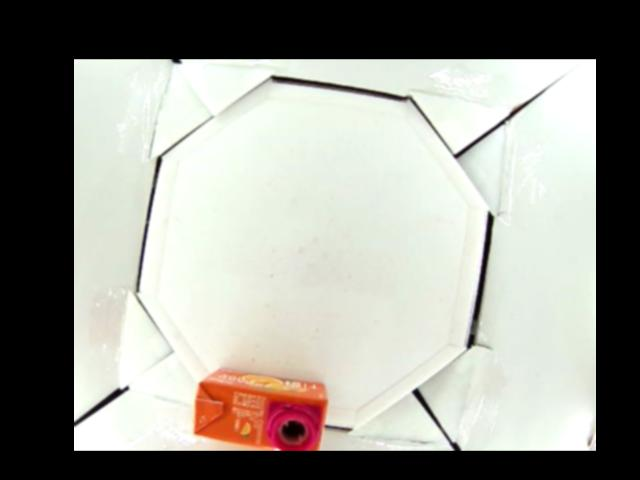Bottle: (188, 366, 328, 450)
